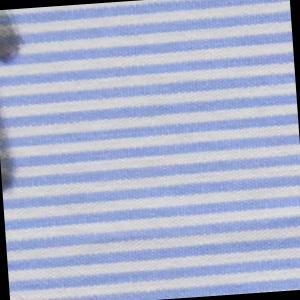Stain: (1, 9, 34, 70), (1, 97, 20, 196)
